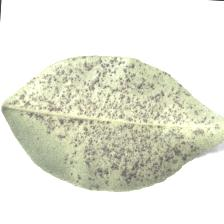canker: (51, 73, 183, 157)
